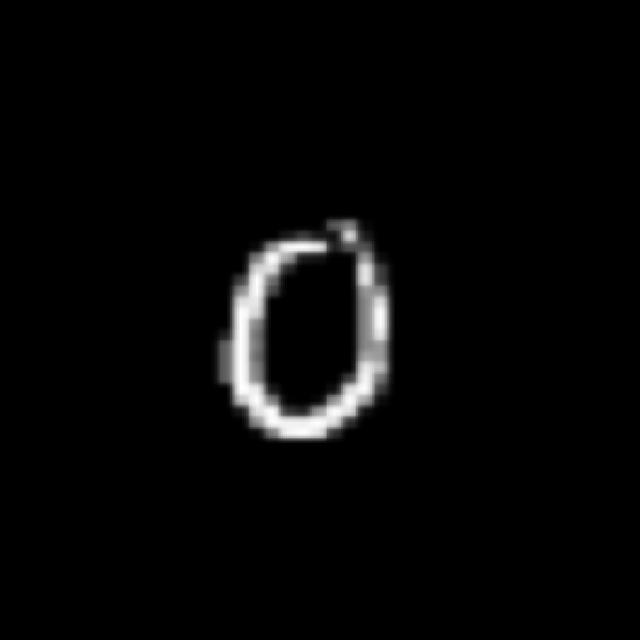zero -0-: (183, 202, 434, 464)
